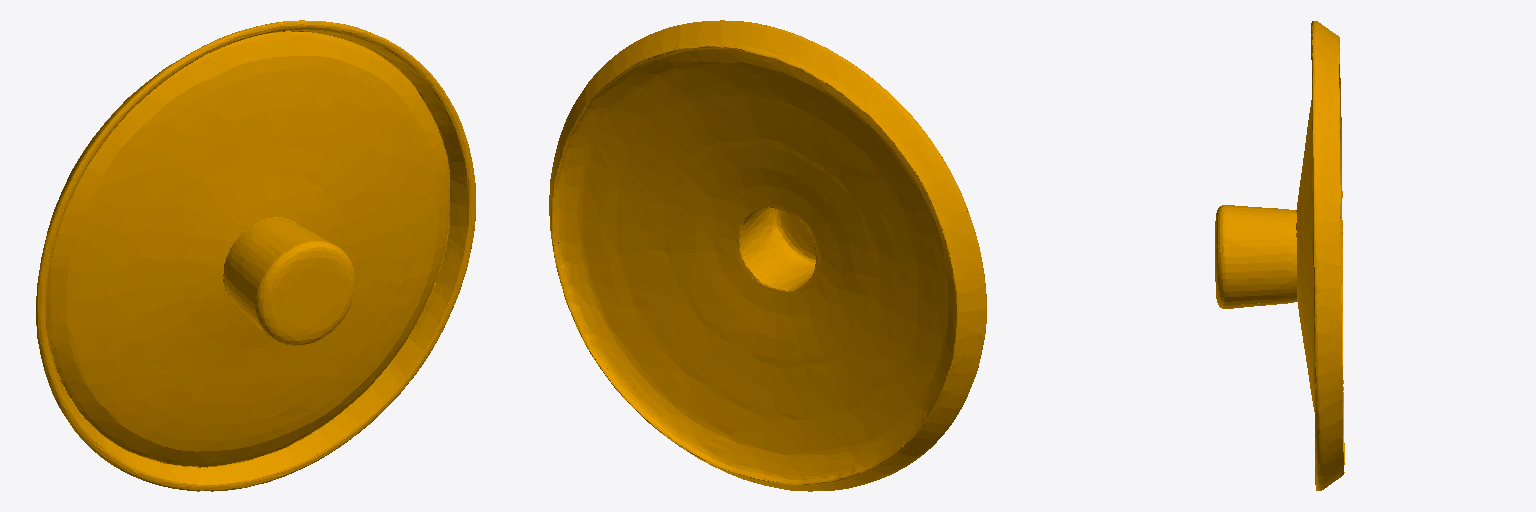
robot.urdf — woklid:
<?xml version="1.0" ?>
<!-- auto-generated by gen_object_urdf.py (TactiDex import) -->
<robot name="woklid">
  <link name="bottom">
    <inertial>
      <origin rpy="0 0 0" xyz="-5.2886316e-05 -0.0079703062 -3.619154e-05"/>
      <mass value="0.2"/>
      <inertia ixx="0.0004270362" ixy="-4.5529563e-07" ixz="3.9365236e-07"
               iyy="0.00079248016" iyz="3.7268516e-06" izz="0.0004272364"/>
    </inertial>
    <visual>
      <origin rpy="0 0 0" xyz="0 0 0"/>
      <geometry><mesh filename="woklid.obj" scale="1 1 1"/></geometry>
    </visual>
      <collision>
        <origin rpy="0 0 0" xyz="0 0 0"/>
        <geometry><mesh filename="collision_parts/part_000.obj" scale="1 1 1"/></geometry>
      </collision>
      <collision>
        <origin rpy="0 0 0" xyz="0 0 0"/>
        <geometry><mesh filename="collision_parts/part_001.obj" scale="1 1 1"/></geometry>
      </collision>
      <collision>
        <origin rpy="0 0 0" xyz="0 0 0"/>
        <geometry><mesh filename="collision_parts/part_002.obj" scale="1 1 1"/></geometry>
      </collision>
      <collision>
        <origin rpy="0 0 0" xyz="0 0 0"/>
        <geometry><mesh filename="collision_parts/part_003.obj" scale="1 1 1"/></geometry>
      </collision>
      <collision>
        <origin rpy="0 0 0" xyz="0 0 0"/>
        <geometry><mesh filename="collision_parts/part_004.obj" scale="1 1 1"/></geometry>
      </collision>
      <collision>
        <origin rpy="0 0 0" xyz="0 0 0"/>
        <geometry><mesh filename="collision_parts/part_005.obj" scale="1 1 1"/></geometry>
      </collision>
      <collision>
        <origin rpy="0 0 0" xyz="0 0 0"/>
        <geometry><mesh filename="collision_parts/part_006.obj" scale="1 1 1"/></geometry>
      </collision>
      <collision>
        <origin rpy="0 0 0" xyz="0 0 0"/>
        <geometry><mesh filename="collision_parts/part_007.obj" scale="1 1 1"/></geometry>
      </collision>
      <collision>
        <origin rpy="0 0 0" xyz="0 0 0"/>
        <geometry><mesh filename="collision_parts/part_008.obj" scale="1 1 1"/></geometry>
      </collision>
      <collision>
        <origin rpy="0 0 0" xyz="0 0 0"/>
        <geometry><mesh filename="collision_parts/part_009.obj" scale="1 1 1"/></geometry>
      </collision>
      <collision>
        <origin rpy="0 0 0" xyz="0 0 0"/>
        <geometry><mesh filename="collision_parts/part_010.obj" scale="1 1 1"/></geometry>
      </collision>
      <collision>
        <origin rpy="0 0 0" xyz="0 0 0"/>
        <geometry><mesh filename="collision_parts/part_011.obj" scale="1 1 1"/></geometry>
      </collision>
      <collision>
        <origin rpy="0 0 0" xyz="0 0 0"/>
        <geometry><mesh filename="collision_parts/part_012.obj" scale="1 1 1"/></geometry>
      </collision>
      <collision>
        <origin rpy="0 0 0" xyz="0 0 0"/>
        <geometry><mesh filename="collision_parts/part_013.obj" scale="1 1 1"/></geometry>
      </collision>
      <collision>
        <origin rpy="0 0 0" xyz="0 0 0"/>
        <geometry><mesh filename="collision_parts/part_014.obj" scale="1 1 1"/></geometry>
      </collision>
      <collision>
        <origin rpy="0 0 0" xyz="0 0 0"/>
        <geometry><mesh filename="collision_parts/part_015.obj" scale="1 1 1"/></geometry>
      </collision>
      <collision>
        <origin rpy="0 0 0" xyz="0 0 0"/>
        <geometry><mesh filename="collision_parts/part_016.obj" scale="1 1 1"/></geometry>
      </collision>
      <collision>
        <origin rpy="0 0 0" xyz="0 0 0"/>
        <geometry><mesh filename="collision_parts/part_017.obj" scale="1 1 1"/></geometry>
      </collision>
      <collision>
        <origin rpy="0 0 0" xyz="0 0 0"/>
        <geometry><mesh filename="collision_parts/part_018.obj" scale="1 1 1"/></geometry>
      </collision>
      <collision>
        <origin rpy="0 0 0" xyz="0 0 0"/>
        <geometry><mesh filename="collision_parts/part_019.obj" scale="1 1 1"/></geometry>
      </collision>
      <collision>
        <origin rpy="0 0 0" xyz="0 0 0"/>
        <geometry><mesh filename="collision_parts/part_020.obj" scale="1 1 1"/></geometry>
      </collision>
      <collision>
        <origin rpy="0 0 0" xyz="0 0 0"/>
        <geometry><mesh filename="collision_parts/part_021.obj" scale="1 1 1"/></geometry>
      </collision>
      <collision>
        <origin rpy="0 0 0" xyz="0 0 0"/>
        <geometry><mesh filename="collision_parts/part_022.obj" scale="1 1 1"/></geometry>
      </collision>
      <collision>
        <origin rpy="0 0 0" xyz="0 0 0"/>
        <geometry><mesh filename="collision_parts/part_023.obj" scale="1 1 1"/></geometry>
      </collision>
  </link>
</robot>

--- Facts derived from the render (not from the file) ---
The picture shows the robot from 3 angles, left to right: view 1: azimuth 30°, elevation 25°; view 2: azimuth 150°, elevation 25°; view 3: azimuth 270°, elevation 25°; orthographic projection.
Model woklid with 1 links and 0 joints (none), rooted at bottom, posed every joint at zero.
Visible links, largest first — view 1: bottom; view 2: bottom; view 3: bottom.
Boxes of the visible links, x1,y1,x2,y2 form: bottom: (36, 20, 475, 491); bottom: (549, 20, 986, 491); bottom: (1215, 21, 1344, 490).
Bounding box of the posed robot: 0.2078 × 0.0572 × 0.2077 m (x, y, z).
Meshes: 1 distinct files referenced, 1 mesh visuals loaded (1 OBJ).
